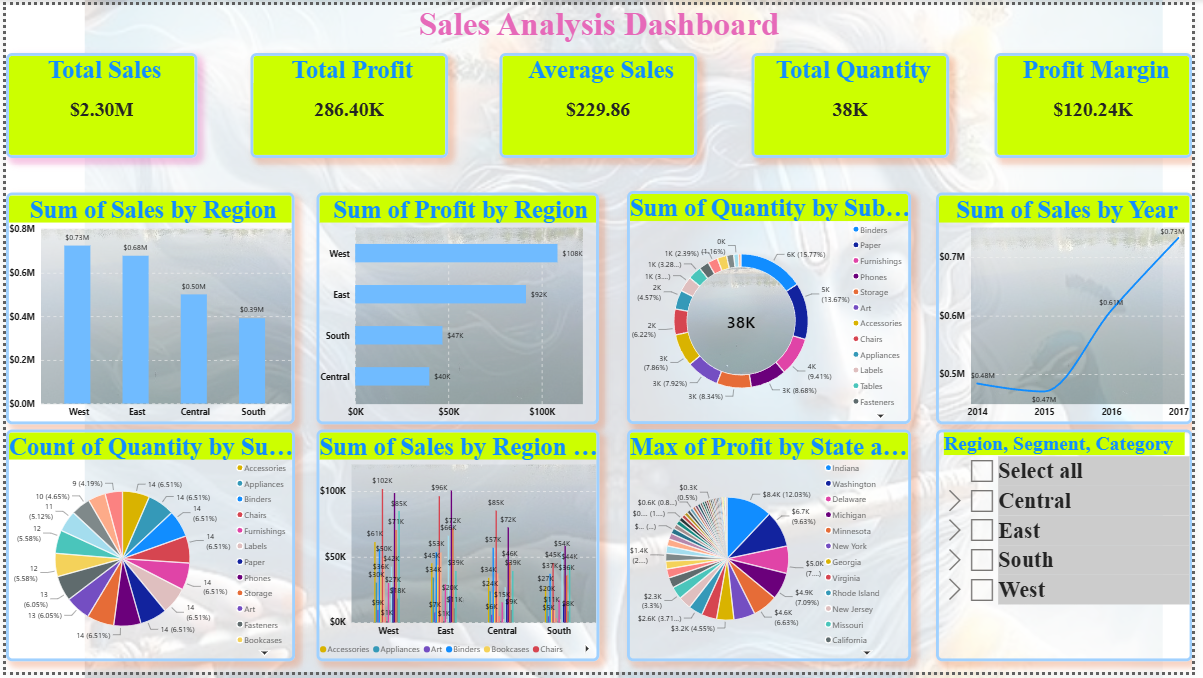

Layout of this report page (visuals, bound fields, positions):
{"tool":"powerbi","page":{"name":"Page 1","canvas":[1920,1080],"ordinal":0},"visuals":[{"type":"textbox","box":[0,0,1920.7,76.3],"z":0},{"type":"cardVisual","title":"Total Profit","fields":{"Data":["Sum(Sales_raw dataset.Profit)"]},"box":[396.7,76.7,320,170],"z":1000},{"type":"cardVisual","title":"Total Sales","fields":{"Data":["Sum(Sales_raw dataset.Sales)"]},"box":[0,76.7,310,170],"z":2000},{"type":"cardVisual","title":"Profit Margin","fields":{"Data":["Sum(Sales_raw dataset.Profit Margin)"]},"box":[1600,76.7,320,170],"z":3000},{"type":"cardVisual","title":"Total Quantity","fields":{"Data":["Sum(Sales_raw dataset.Quantity)"]},"box":[1206.7,76.7,320,170],"z":4000},{"type":"cardVisual","title":"Average Sales","fields":{"Data":["Avg(Sales_raw dataset.Sales)"]},"box":[800,76.7,320,170],"z":5000},{"type":"columnChart","fields":{"Category":["Sales_raw dataset.Region"],"Y":["Sum(Sales_raw dataset.Sales)"]},"box":[0,302.5,467.5,375],"z":6000},{"type":"clusteredBarChart","fields":{"Category":["Sales_raw dataset.Region"],"Y":["Sum(Sales_raw dataset.Profit)"]},"box":[502.5,302.5,457.5,375],"z":7000},{"type":"donutChart","fields":{"Category":["Sales_raw dataset.Sub-Category"],"Y":["Sum(Sales_raw dataset.Quantity)"]},"box":[1005,300,460,377.5],"z":8000},{"type":"lineChart","fields":{"Category":["Sales_raw dataset.Order Date.Variation.Date Hierarchy.Year"],"Y":["Sum(Sales_raw dataset.Sales)"]},"box":[1505,302.5,415,375],"z":9000},{"type":"pieChart","fields":{"Category":["Sales_raw dataset.Sub-Category"],"Series":["Sales_raw dataset.Category"],"Y":["Count(Sales_raw dataset.Quantity)"]},"box":[0,688,468,375],"z":10000},{"type":"clusteredColumnChart","fields":{"Category":["Sales_raw dataset.Region"],"Series":["Sales_raw dataset.Sub-Category"],"Y":["Sum(Sales_raw dataset.Sales)"]},"box":[503,688,458,375],"z":11000},{"type":"pieChart","fields":{"Category":["Sales_raw dataset.State"],"Series":["Sales_raw dataset.Region"],"Y":["Max(Sales_raw dataset.Profit)"]},"box":[1005,688,460,375],"z":12000},{"type":"slicer","fields":{"Values":["Sales_raw dataset.Region","Sales_raw dataset.Segment","Sales_raw dataset.Category"]},"box":[1505,688,415,375],"z":13000}]}

Visuals, with their boxes in screenshot pixels (x1, y1, x2, y2), scaled from the page's 1920x1080 canvas onto the 1203x678 screenshot:
textbox: 0/0/1202/48
"Total Profit" cardVisual: 249/48/449/155
"Total Sales" cardVisual: 0/48/194/155
"Profit Margin" cardVisual: 1002/48/1202/155
"Total Quantity" cardVisual: 756/48/957/155
"Average Sales" cardVisual: 501/48/702/155
columnChart - Sales_raw dataset.Region x Sum(Sales_raw dataset.Sales): 0/190/293/425
clusteredBarChart - Sales_raw dataset.Region x Sum(Sales_raw dataset.Profit): 315/190/602/425
donutChart - Sales_raw dataset.Sub-Category x Sum(Sales_raw dataset.Quantity): 630/188/918/425
lineChart - Sales_raw dataset.Order Date.Variation.Date Hierarchy.Year x Sum(Sales_raw dataset.Sales): 943/190/1202/425
pieChart - Sales_raw dataset.Sub-Category x Sales_raw dataset.Category: 0/432/293/667
clusteredColumnChart - Sales_raw dataset.Region x Sales_raw dataset.Sub-Category: 315/432/602/667
pieChart - Sales_raw dataset.State x Sales_raw dataset.Region: 630/432/918/667
slicer - Sales_raw dataset.Region x Sales_raw dataset.Segment: 943/432/1202/667
